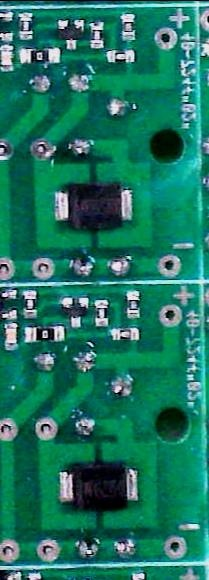chip-capacitor: (4, 322, 17, 349), (0, 46, 12, 69)
chip-resistor: (20, 47, 59, 62), (26, 326, 63, 341), (18, 11, 32, 38), (89, 21, 103, 47), (121, 14, 135, 40), (106, 49, 134, 62), (112, 327, 140, 340), (95, 299, 108, 326), (127, 290, 139, 317), (24, 290, 36, 317)
diode: (57, 462, 138, 508), (54, 181, 132, 227)
transistor: (62, 296, 89, 326), (58, 18, 84, 49)
